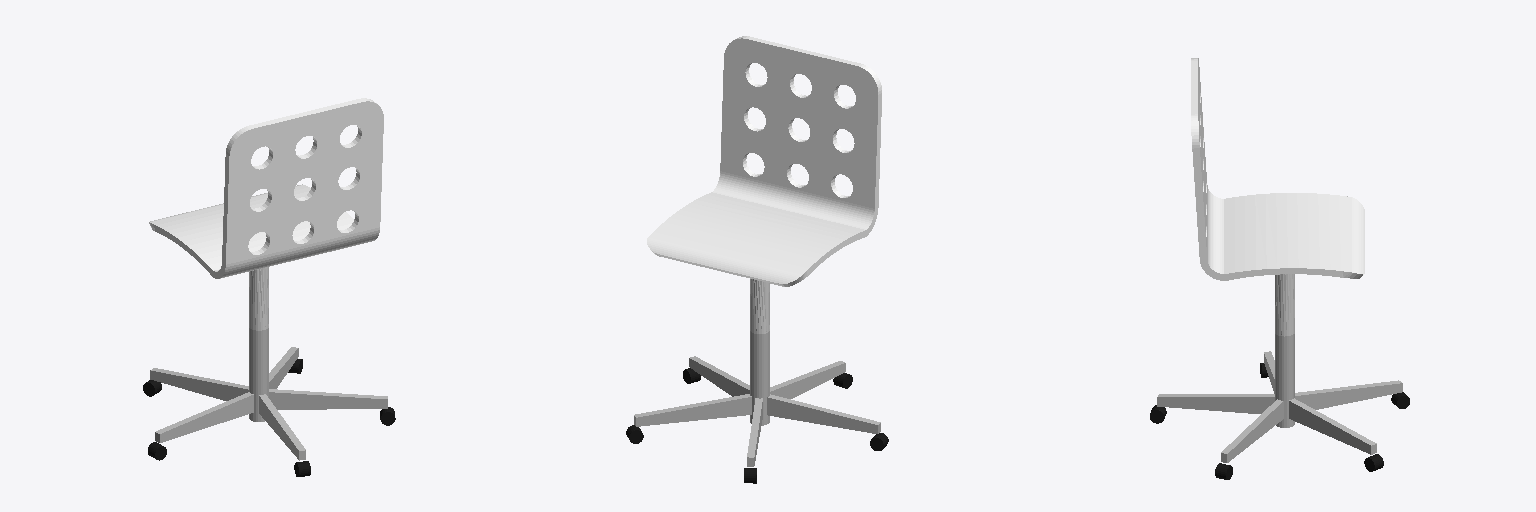
3 views of the same model, side by side, from view 1: azimuth 30°, elevation 25°; view 2: azimuth 150°, elevation 25°; view 3: azimuth 270°, elevation 25° (orthographic).
Visible parts, largest first — view 1: Mesh1 Group2 Group1 Model, Mesh12 Group3 ske3F1 Group1 Model, Mesh5 Group5 Group3 ske3F1 Group1 Model, Mesh7 Group6 Group3 ske3F1 Group1 Model, Mesh3 Group4 Group3 ske3F1 Group1 Model, Mesh9 Group7 Group3 ske3F1 Group1 Model, Mesh11 Group8 Group3 ske3F1 Group1 Model; view 2: Mesh1 Group2 Group1 Model, Mesh12 Group3 ske3F1 Group1 Model, Mesh11 Group8 Group3 ske3F1 Group1 Model, Mesh7 Group6 Group3 ske3F1 Group1 Model, Mesh9 Group7 Group3 ske3F1 Group1 Model, Mesh5 Group5 Group3 ske3F1 Group1 Model, Mesh3 Group4 Group3 ske3F1 Group1 Model; view 3: Mesh1 Group2 Group1 Model, Mesh12 Group3 ske3F1 Group1 Model, Mesh9 Group7 Group3 ske3F1 Group1 Model, Mesh3 Group4 Group3 ske3F1 Group1 Model, Mesh11 Group8 Group3 ske3F1 Group1 Model, Mesh5 Group5 Group3 ske3F1 Group1 Model.
Part boxes in pixels (x1,y1,x2,y2): Mesh1 Group2 Group1 Model: (149,98,383,278); Mesh12 Group3 ske3F1 Group1 Model: (249,267,268,421); Mesh5 Group5 Group3 ske3F1 Group1 Model: (269,389,387,409); Mesh7 Group6 Group3 ske3F1 Group1 Model: (155,392,253,442); Mesh3 Group4 Group3 ske3F1 Group1 Model: (150,368,248,400); Mesh9 Group7 Group3 ske3F1 Group1 Model: (259,394,305,460); Mesh11 Group8 Group3 ske3F1 Group1 Model: (269,347,298,388); Mesh1 Group2 Group1 Model: (647,36,881,286); Mesh12 Group3 ske3F1 Group1 Model: (750,279,769,425); Mesh11 Group8 Group3 ske3F1 Group1 Model: (634,394,751,426); Mesh7 Group6 Group3 ske3F1 Group1 Model: (767,394,880,433); Mesh9 Group7 Group3 ske3F1 Group1 Model: (770,361,845,398); Mesh5 Group5 Group3 ske3F1 Group1 Model: (689,356,749,396); Mesh3 Group4 Group3 ske3F1 Group1 Model: (747,398,762,466); Mesh1 Group2 Group1 Model: (1191,58,1364,280); Mesh12 Group3 ske3F1 Group1 Model: (1275,274,1294,427); Mesh9 Group7 Group3 ske3F1 Group1 Model: (1157,394,1274,413); Mesh3 Group4 Group3 ske3F1 Group1 Model: (1295,380,1402,409); Mesh11 Group8 Group3 ske3F1 Group1 Model: (1289,398,1376,454); Mesh5 Group5 Group3 ske3F1 Group1 Model: (1221,399,1283,462).
Bounding box in the file's own units: 0.5426 × 0.7946 × 0.5461.